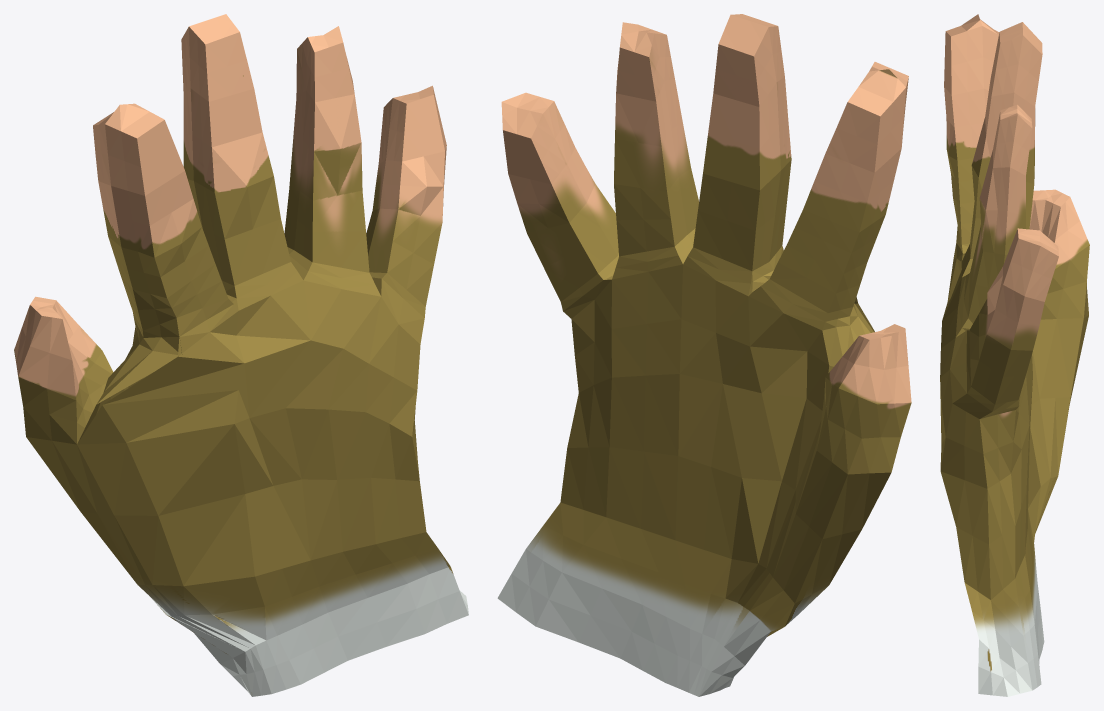
Rendered from rest0001.obj.
The picture shows the model from 3 angles, left to right: view 1: azimuth 30°, elevation 25°; view 2: azimuth 150°, elevation 25°; view 3: azimuth 270°, elevation 25°; orthographic projection. The views are drawn at different scales.
Visible parts, largest first — view 1: Hand; view 2: Hand; view 3: Hand.
Part boxes in pixels (<box>): Hand: <box>14,14,468,696</box>; Hand: <box>497,14,911,696</box>; Hand: <box>940,14,1089,696</box>.
Size of the model in its own units: 3.27 by 4.97 by 1.12.
